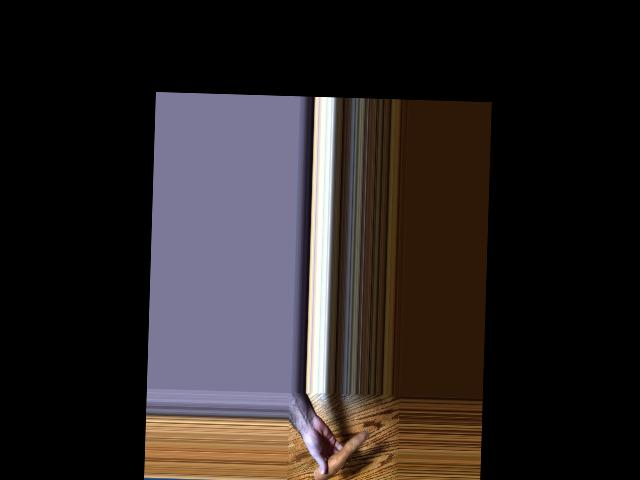sweet_potato: (312, 429, 368, 480)
